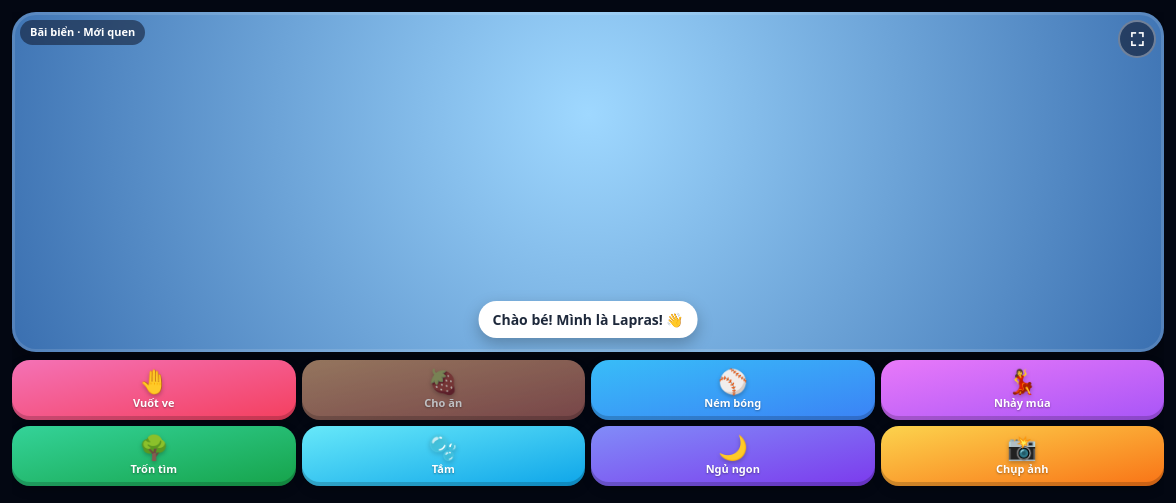
Playground3D › PG-UI-08 Cho ăn needs a scanned card
Click the button with test id "pg3d-act-feed" at (443, 390), box [302,360,585,420]
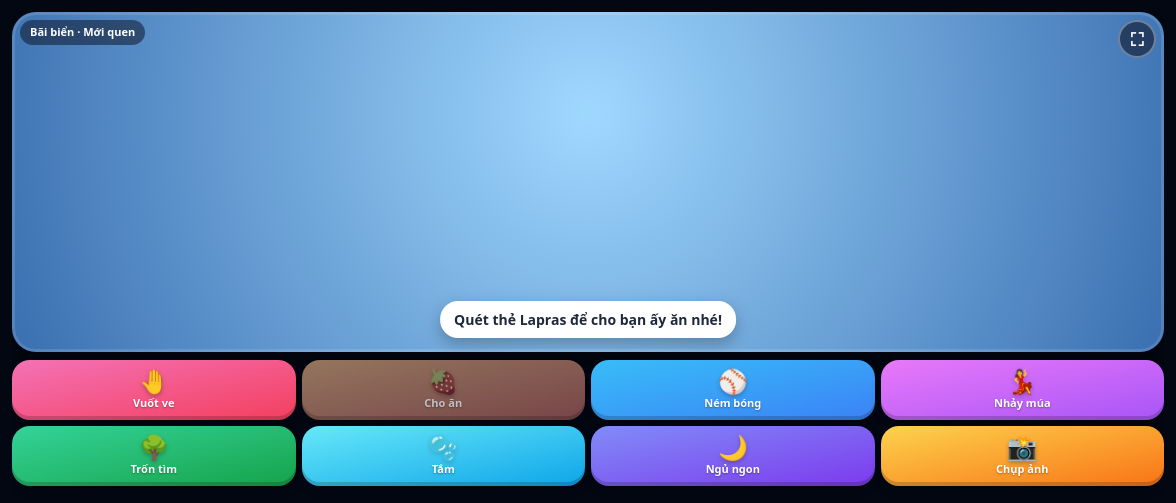
Now the text "Quét thẻ Lapras để cho bạn ấy ăn nhé!" is shown, box [440,301,736,338]
